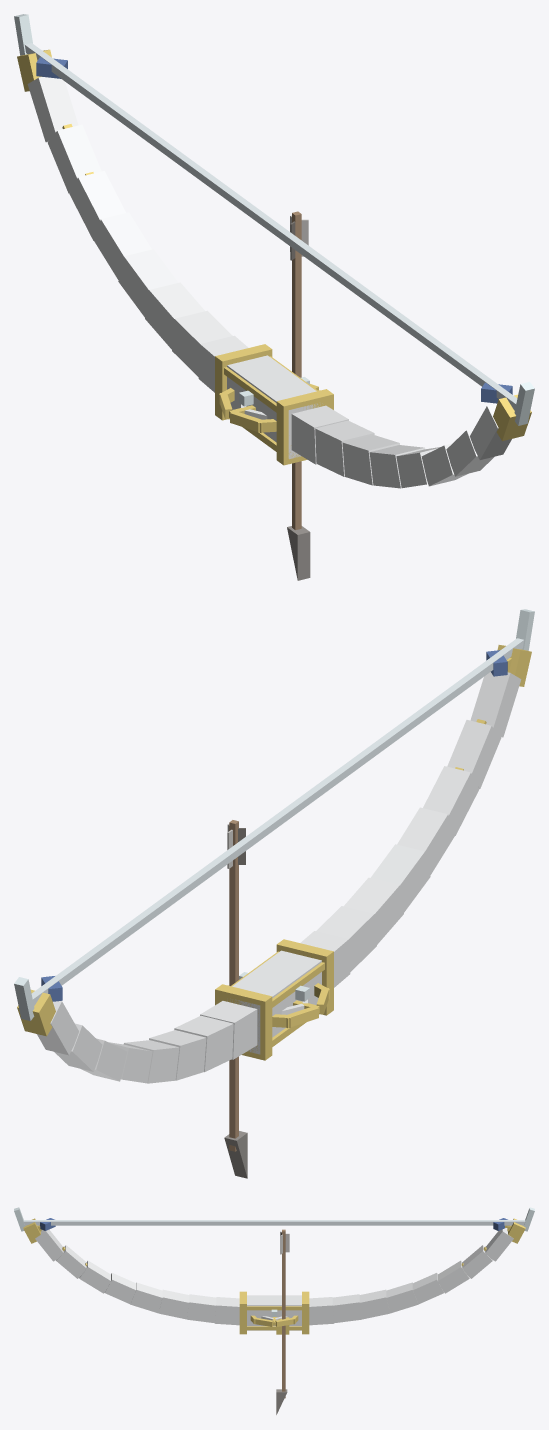
The model's file is art_celestial_zenith.fbx.
The picture shows the model from 3 angles, top to bottom: view 1: azimuth 30°, elevation 25°; view 2: azimuth 150°, elevation 25°; view 3: azimuth 270°, elevation 25°; orthographic projection. The views are drawn at different scales.
Parts seen in each view (by area): view 1: BowString, Handle, ArrowShaft, LimbU_4, LimbU_6, LimbU_7, LimbU_5, LimbU_8, LimbU_3, LimbU_2, LimbL_2, LimbL_1 (+11 smaller); view 2: BowString, Handle, ArrowShaft, LimbL_4, LimbL_6, LimbL_7, LimbL_5, LimbL_3, LimbL_2, LimbL_8, LimbU_2, ColCapital (+11 smaller); view 3: BowString, Handle, LimbL_2, LimbU_2, LimbL_3, LimbU_3, LimbL_4, LimbU_4, LimbL_1, LimbU_1, LimbL_5, LimbU_5 (+9 smaller).
Part boxes in pixels (<box>): BowString: <box>25,43,517,410</box>; Handle: <box>227,355,322,459</box>; ArrowShaft: <box>292,211,301,530</box>; LimbU_4: <box>118,249,178,317</box>; LimbU_6: <box>69,171,125,240</box>; LimbU_7: <box>47,124,101,193</box>; LimbU_5: <box>93,212,151,279</box>; LimbU_8: <box>27,77,78,142</box>; LimbU_3: <box>145,282,204,349</box>; LimbU_2: <box>172,310,232,376</box>; LimbL_2: <box>315,420,374,476</box>; LimbL_1: <box>291,405,348,464</box>; BowString: <box>31,638,523,1005</box>; Handle: <box>227,950,321,1054</box>; ArrowShaft: <box>229,820,238,1151</box>; LimbL_4: <box>370,844,430,912</box>; LimbL_6: <box>423,766,479,835</box>; LimbL_7: <box>447,720,501,788</box>; LimbL_5: <box>397,807,454,875</box>; LimbL_3: <box>344,877,403,944</box>; LimbL_2: <box>316,906,376,971</box>; LimbL_8: <box>470,672,521,737</box>; LimbU_2: <box>174,1015,233,1072</box>; ColCapital: <box>215,984,272,1060</box>; BowString: <box>23,1220,525,1225</box>; Handle: <box>247,1295,301,1330</box>; LimbL_2: <box>186,1294,216,1323</box>; LimbU_2: <box>332,1294,362,1323</box>; LimbL_3: <box>158,1289,189,1319</box>; LimbU_3: <box>359,1289,390,1319</box>; LimbL_4: <box>130,1282,162,1313</box>; LimbU_4: <box>386,1282,418,1313</box>; LimbL_1: <box>215,1297,239,1325</box>; LimbU_1: <box>309,1297,333,1325</box>; LimbL_5: <box>104,1273,135,1304</box>; LimbU_5: <box>413,1273,444,1304</box>.
Size of the model in its own units: 0.5995 by 2.37 by 5.66.
